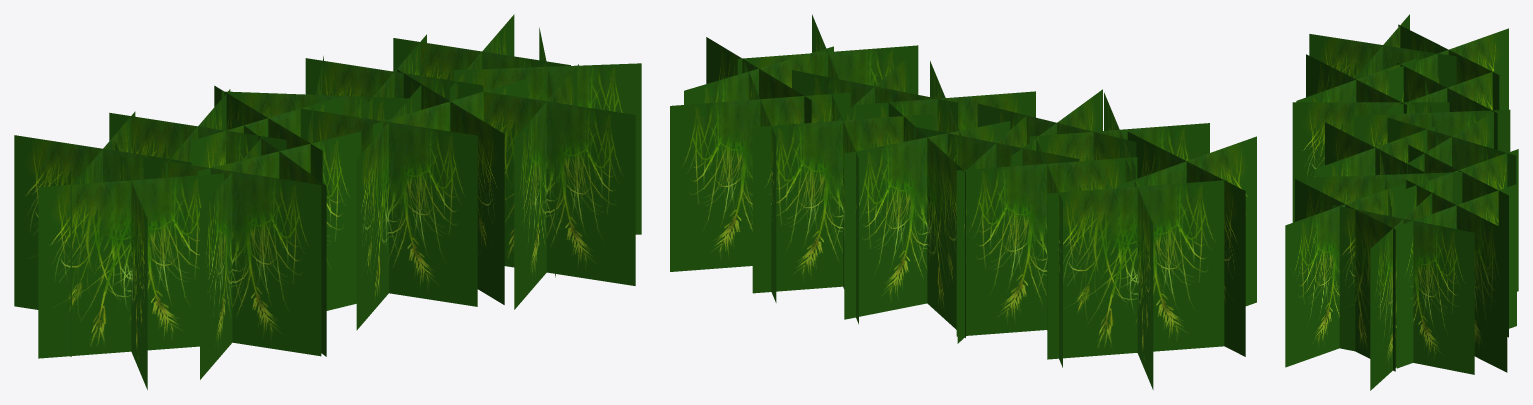
File: INST_HTOWN_WHEATPLANTA.obj
3 views of the same model, side by side, from view 1: azimuth 30°, elevation 25°; view 2: azimuth 150°, elevation 25°; view 3: azimuth 270°, elevation 25° (orthographic). The views are drawn at different scales.
Visible parts, largest first — view 1: tPlantA_Lod1_01; view 2: tPlantA_Lod1_01; view 3: tPlantA_Lod1_01.
Part boxes in pixels (<box>): tPlantA_Lod1_01: <box>14,14,641,389</box>; tPlantA_Lod1_01: <box>670,14,1256,389</box>; tPlantA_Lod1_01: <box>1285,14,1518,390</box>.
Bounding box in the file's own units: 346 × 97.82 × 146.
